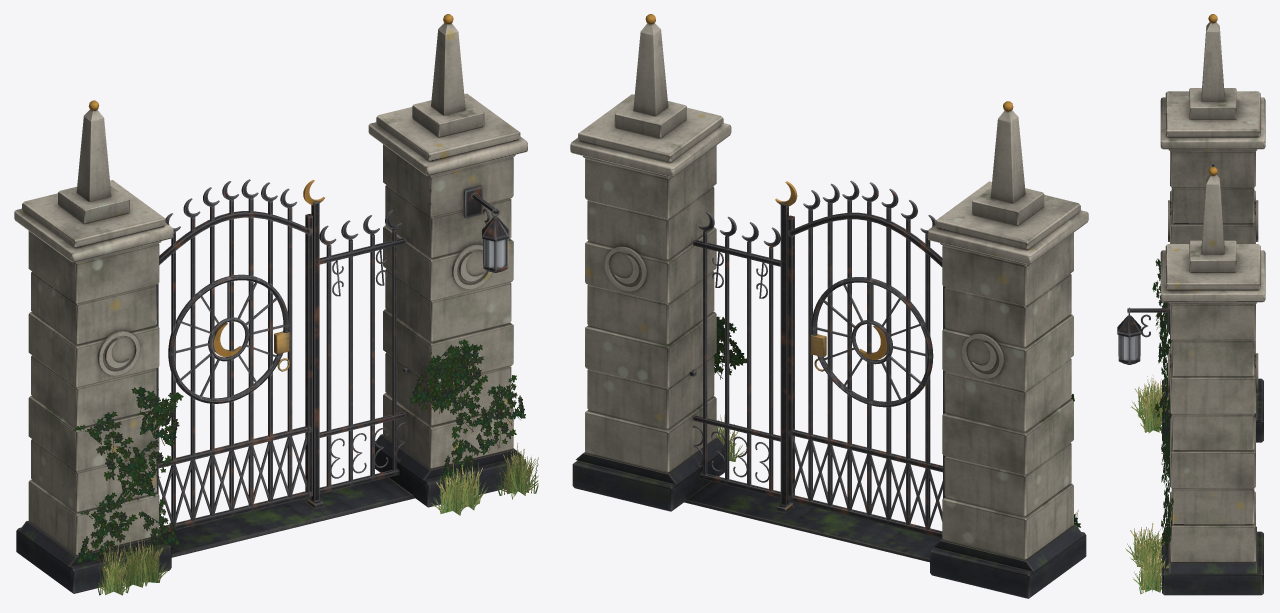
Rendered from GatePedestrian.fbx.
3 renders of one model, left to right at view 1: azimuth 30°, elevation 25°; view 2: azimuth 150°, elevation 25°; view 3: azimuth 270°, elevation 25°, orthographic. The views are drawn at different scales.
Visible parts, largest first — view 1: GatePedestrian_Main, GatePedestrian_Leaf0, GatePedestrian_Leaves; view 2: GatePedestrian_Main, GatePedestrian_Leaf0, GatePedestrian_Leaves; view 3: GatePedestrian_Main, GatePedestrian_Leaves, GatePedestrian_Glass.
Part boxes in pixels (bbox=[...]): GatePedestrian_Main: bbox=[14, 14, 527, 593]; GatePedestrian_Leaf0: bbox=[156, 179, 312, 533]; GatePedestrian_Leaves: bbox=[73, 339, 538, 595]; GatePedestrian_Main: bbox=[570, 14, 1088, 598]; GatePedestrian_Leaf0: bbox=[787, 180, 945, 538]; GatePedestrian_Leaves: bbox=[713, 316, 1080, 527]; GatePedestrian_Main: bbox=[1117, 14, 1265, 595]; GatePedestrian_Leaves: bbox=[1125, 258, 1173, 594]; GatePedestrian_Glass: bbox=[1118, 335, 1140, 360].
Bounding box in the file's own units: 1045 × 995 × 328.
